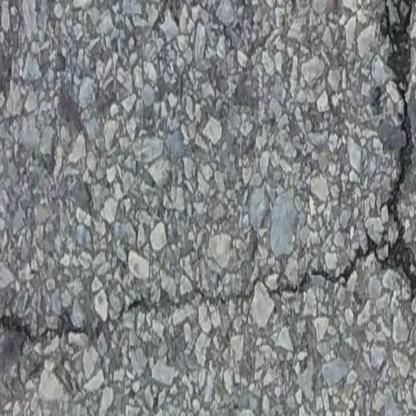Cracks: (92, 0, 416, 343), (0, 305, 90, 347)
